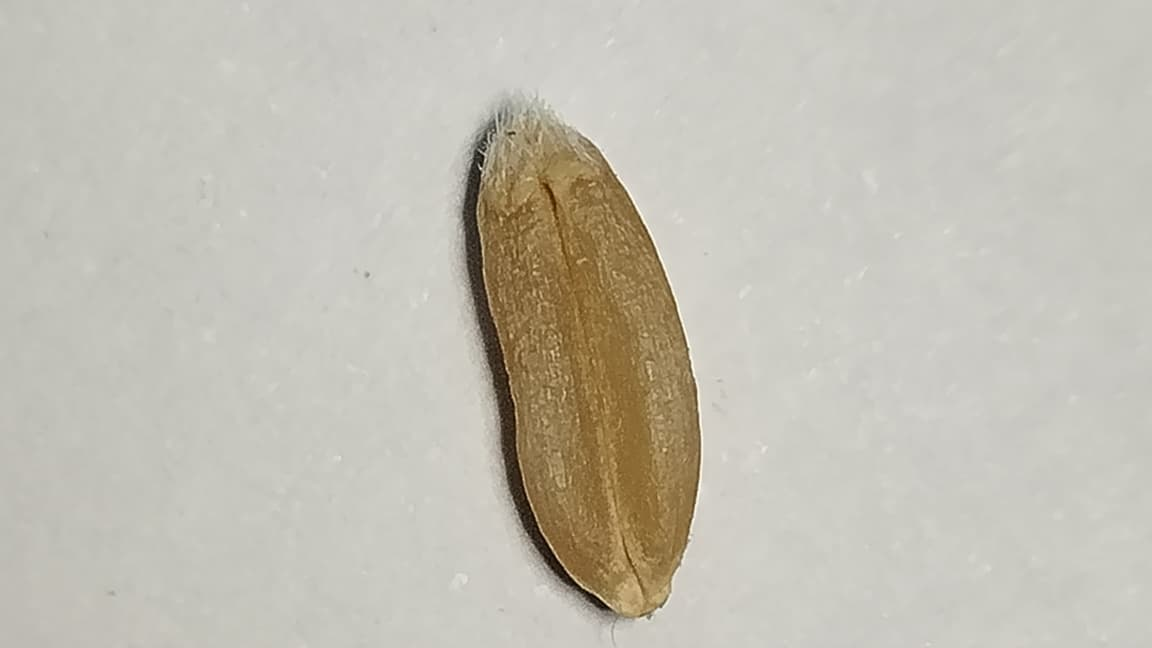healthy: (465, 114, 699, 616)
